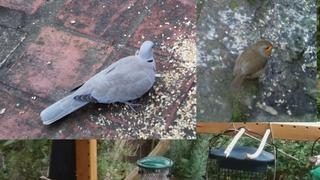collared dove: (40, 40, 156, 125)
robin: (230, 40, 277, 91)
